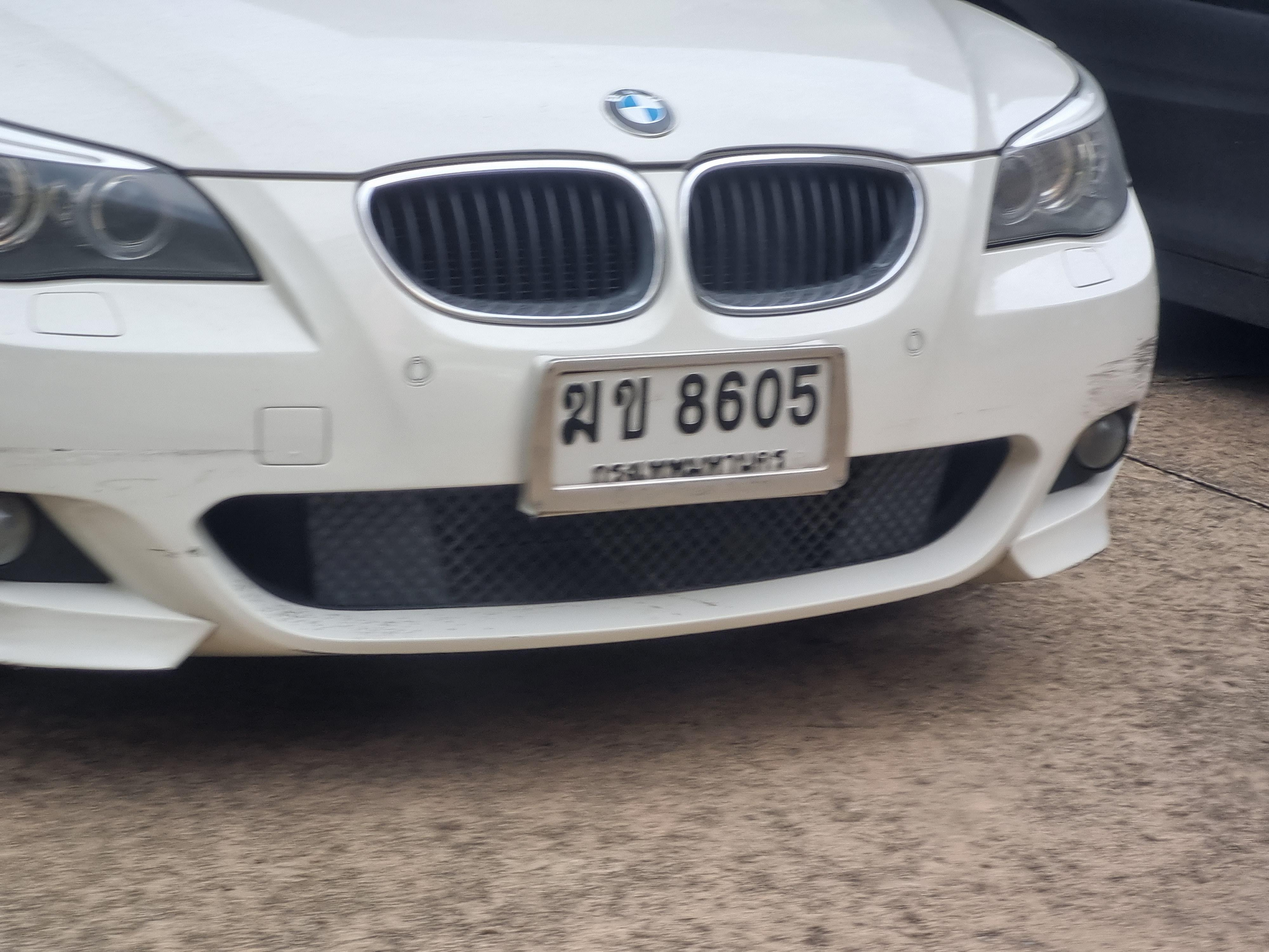license-plate: (521, 352, 850, 504)
